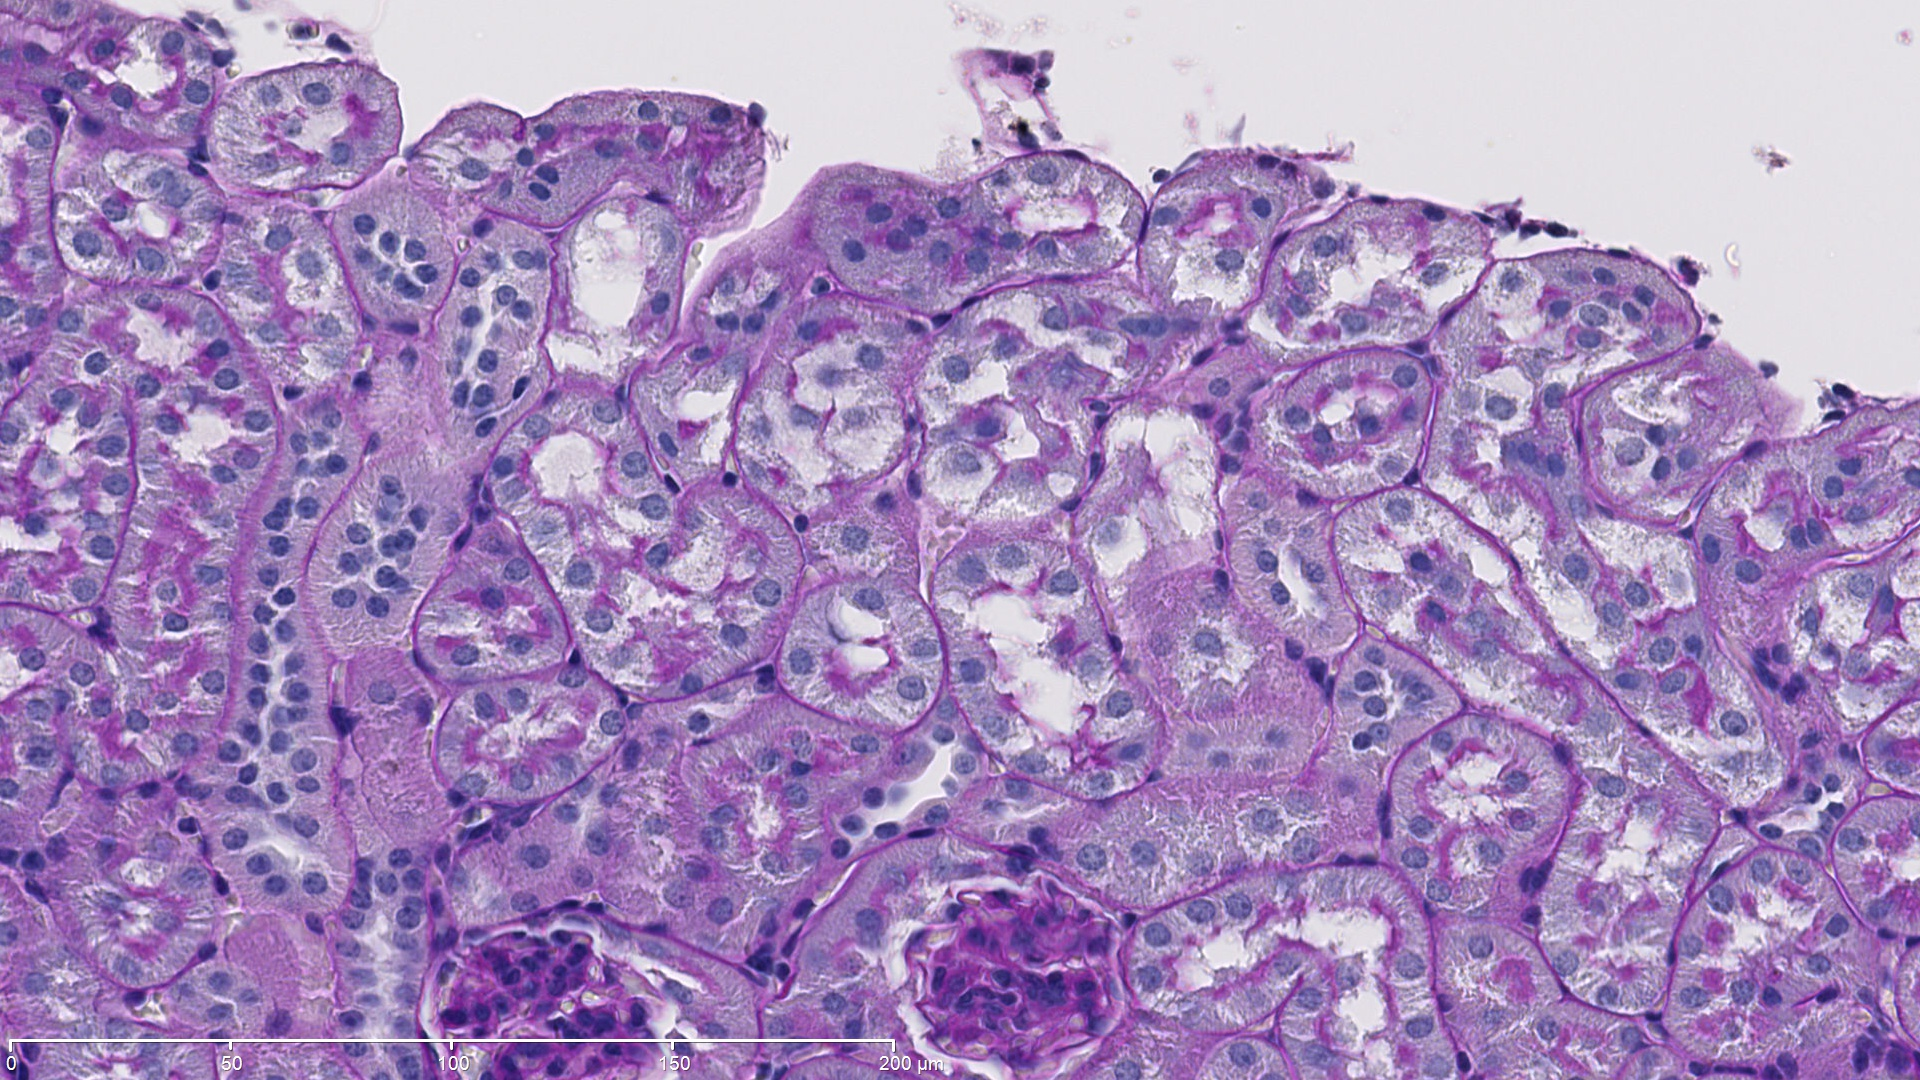Glomeruli: (898, 868, 1156, 1069), (421, 916, 679, 1080)
